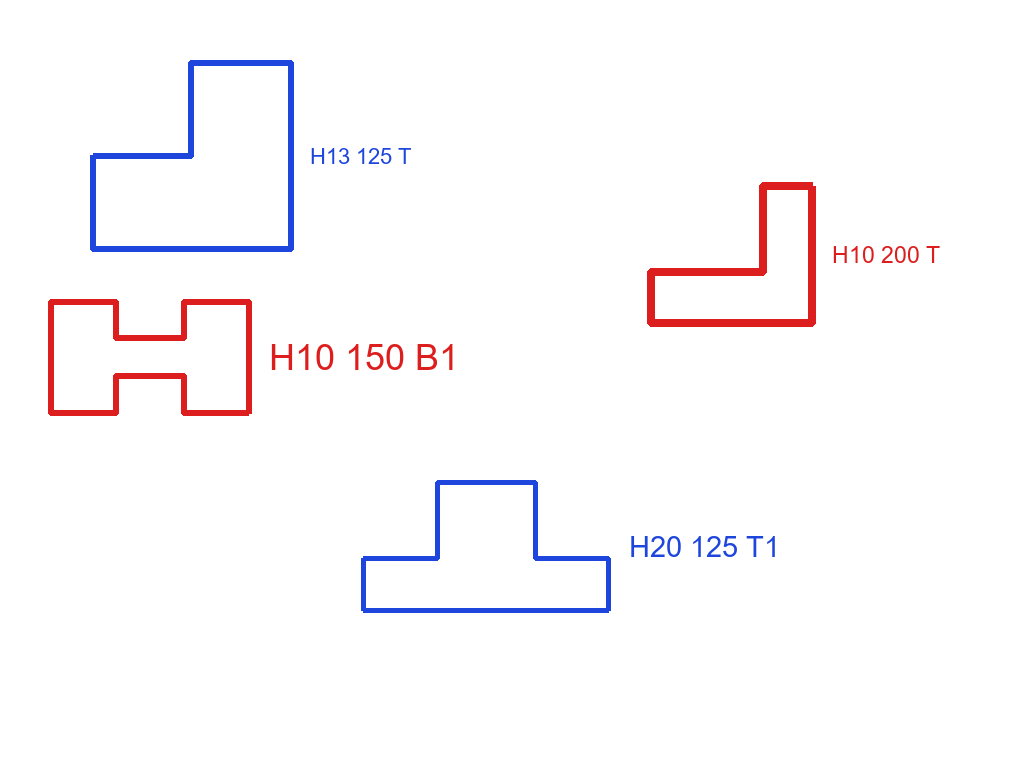shape: (88, 57, 295, 254), (359, 478, 613, 615), (644, 181, 818, 328), (46, 296, 254, 418)
text: (267, 342, 461, 372), (627, 534, 782, 559), (830, 244, 942, 265), (308, 146, 413, 166)
